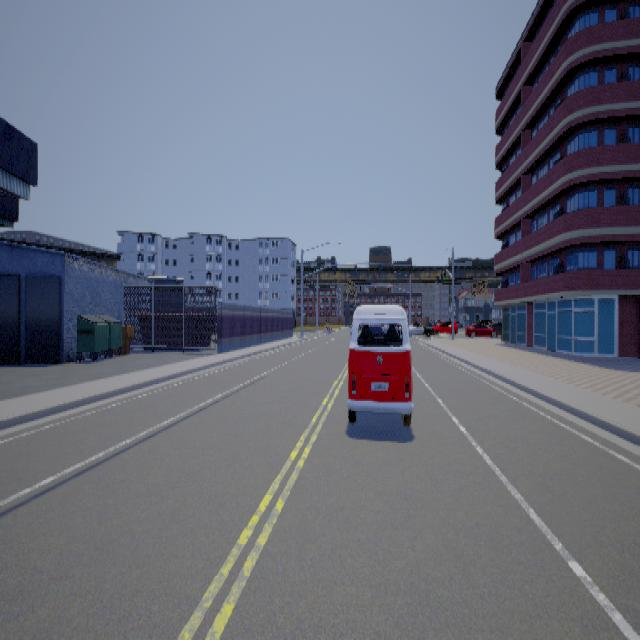vehicle: (346, 298, 411, 426), (464, 316, 501, 336)
